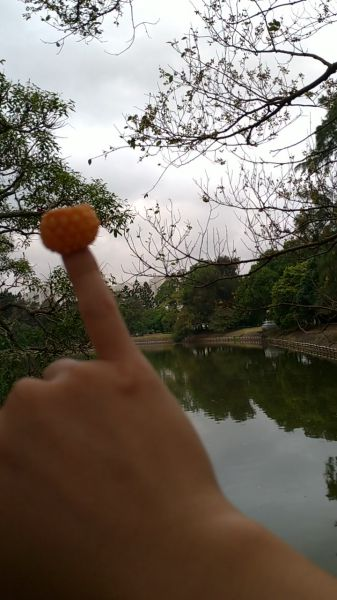eggs: (39, 203, 100, 256)
